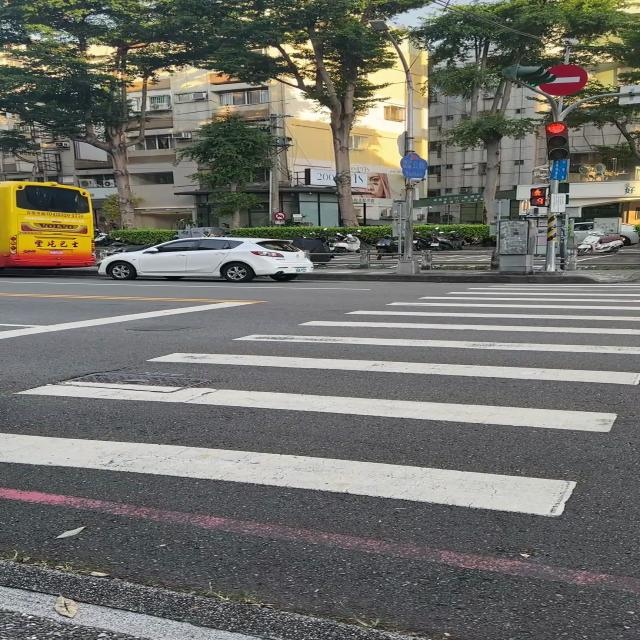bus: (0, 181, 95, 267)
car: (97, 238, 313, 281)
crosswalk: (0, 281, 640, 521)
